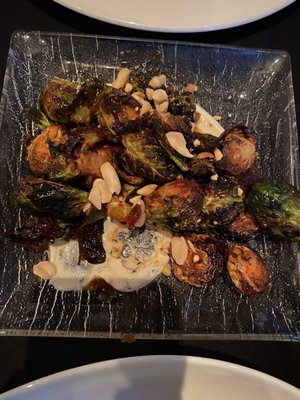curry: (0, 0, 300, 333)
sandwich: (6, 46, 300, 301)
